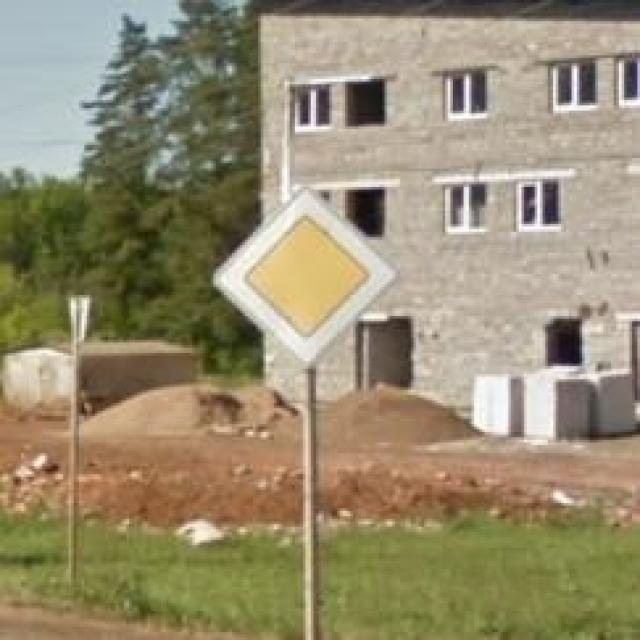traffic_sign: (208, 187, 400, 371)
